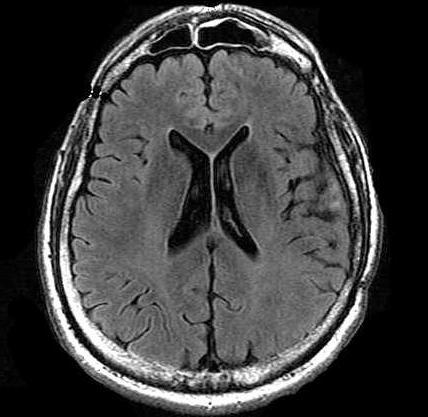Normal_Brain: (38, 1, 428, 417)
